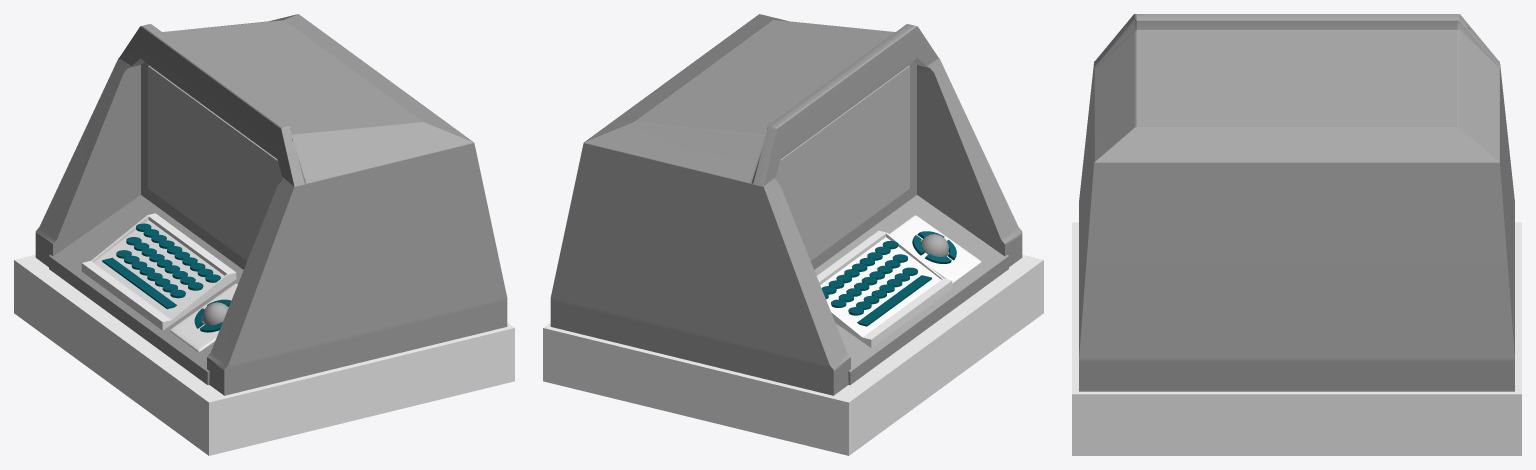
File: Terminal.fbx
3 views of the same model, side by side, from view 1: azimuth 30°, elevation 25°; view 2: azimuth 150°, elevation 25°; view 3: azimuth 270°, elevation 25° (orthographic). The views are drawn at different scales.
Parts seen in each view (by area): view 1: polySurface115, polySurface77, polySurface5, polySurface131, pCube8, pCube7, polySurface117; view 2: polySurface115, polySurface77, polySurface5, polySurface131, pCube8, polySurface117, pCube7; view 3: polySurface115, polySurface77.
Part boxes in pixels (x1,y1,x2,y2): polySurface115: (35,14,507,395); polySurface77: (14,254,514,455); polySurface5: (148,65,282,260); polySurface131: (81,213,236,330); pCube8: (49,195,243,385); pCube7: (141,61,292,269); polySurface117: (170,283,237,352); polySurface115: (550,14,1022,395); polySurface77: (543,254,1043,455); polySurface5: (775,65,909,260); polySurface131: (816,230,952,347); pCube8: (814,195,1008,385); polySurface117: (889,215,981,283); pCube7: (765,61,916,269); polySurface115: (1079,14,1514,391); polySurface77: (1072,222,1521,455).
Size of the model in its own units: 20.37 by 18.01 by 22.48.
